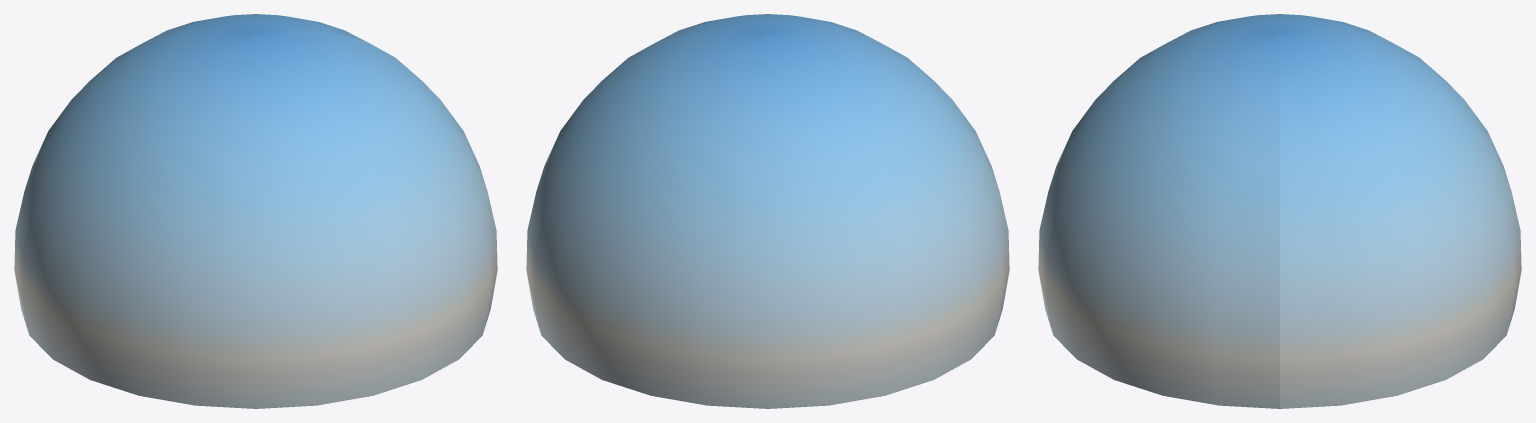
Rendered from sky_dome.glb.
The picture shows the model from 3 angles, left to right: view 1: azimuth 30°, elevation 25°; view 2: azimuth 150°, elevation 25°; view 3: azimuth 270°, elevation 25°; orthographic projection.
Parts seen in each view (by area): view 1: sky_dome; view 2: sky_dome; view 3: sky_dome.
Part boxes in pixels (x1,y1,x2,y2): sky_dome: (14,14,497,408); sky_dome: (526,14,1009,408); sky_dome: (1038,14,1521,408).
Bounding box in the file's own units: 1796 × 1123 × 1796.
1 material, 1 textured.
